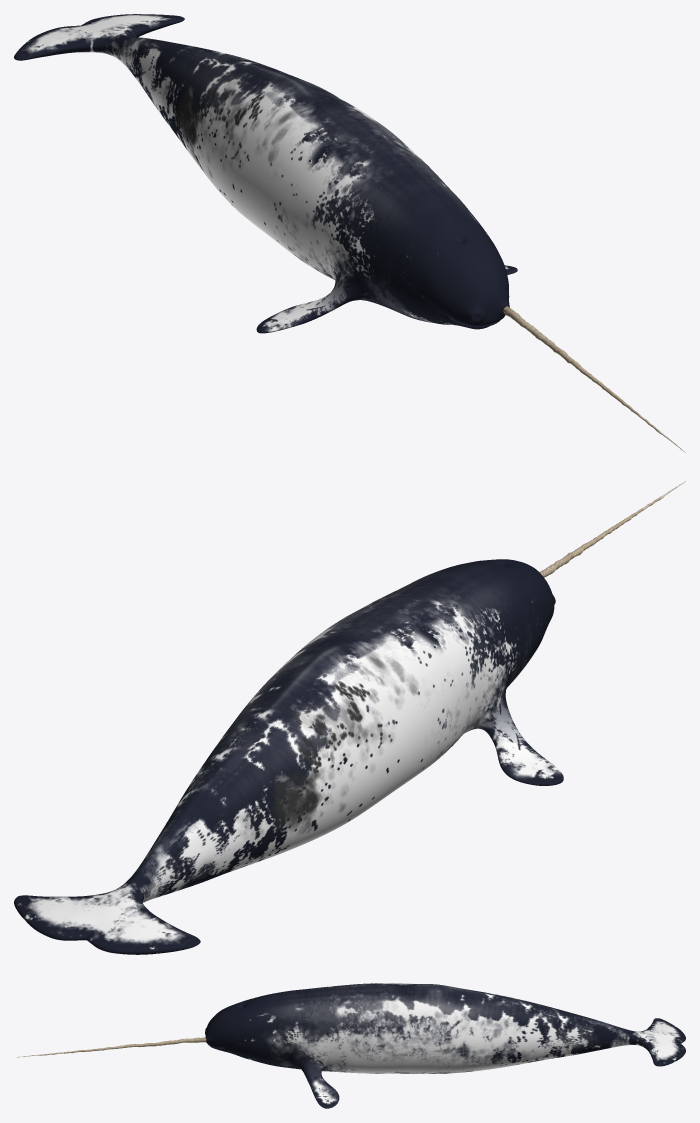
The model's file is model-monodon-monoceros.glb.
3 renders of one model, top to bottom at view 1: azimuth 30°, elevation 25°; view 2: azimuth 150°, elevation 25°; view 3: azimuth 270°, elevation 25°, orthographic. The views are drawn at different scales.
Visible parts, largest first — view 1: narwhal-artist-body, selected-anatomical-left-erupted-tusk; view 2: narwhal-artist-body, selected-anatomical-left-erupted-tusk; view 3: narwhal-artist-body, selected-anatomical-left-erupted-tusk.
Boxes of the visible parts, x1=… form: narwhal-artist-body: x1=14, y1=14, x2=517, y2=333; selected-anatomical-left-erupted-tusk: x1=503, y1=306, x2=685, y2=452; narwhal-artist-body: x1=14, y1=559, x2=563, y2=954; selected-anatomical-left-erupted-tusk: x1=539, y1=481, x2=685, y2=577; narwhal-artist-body: x1=205, y1=983, x2=685, y2=1108; selected-anatomical-left-erupted-tusk: x1=15, y1=1037, x2=206, y2=1057.
Bounding box in the file's own units: 98.03 × 55.19 × 382.
Materials: 1 (1 with a texture image).
